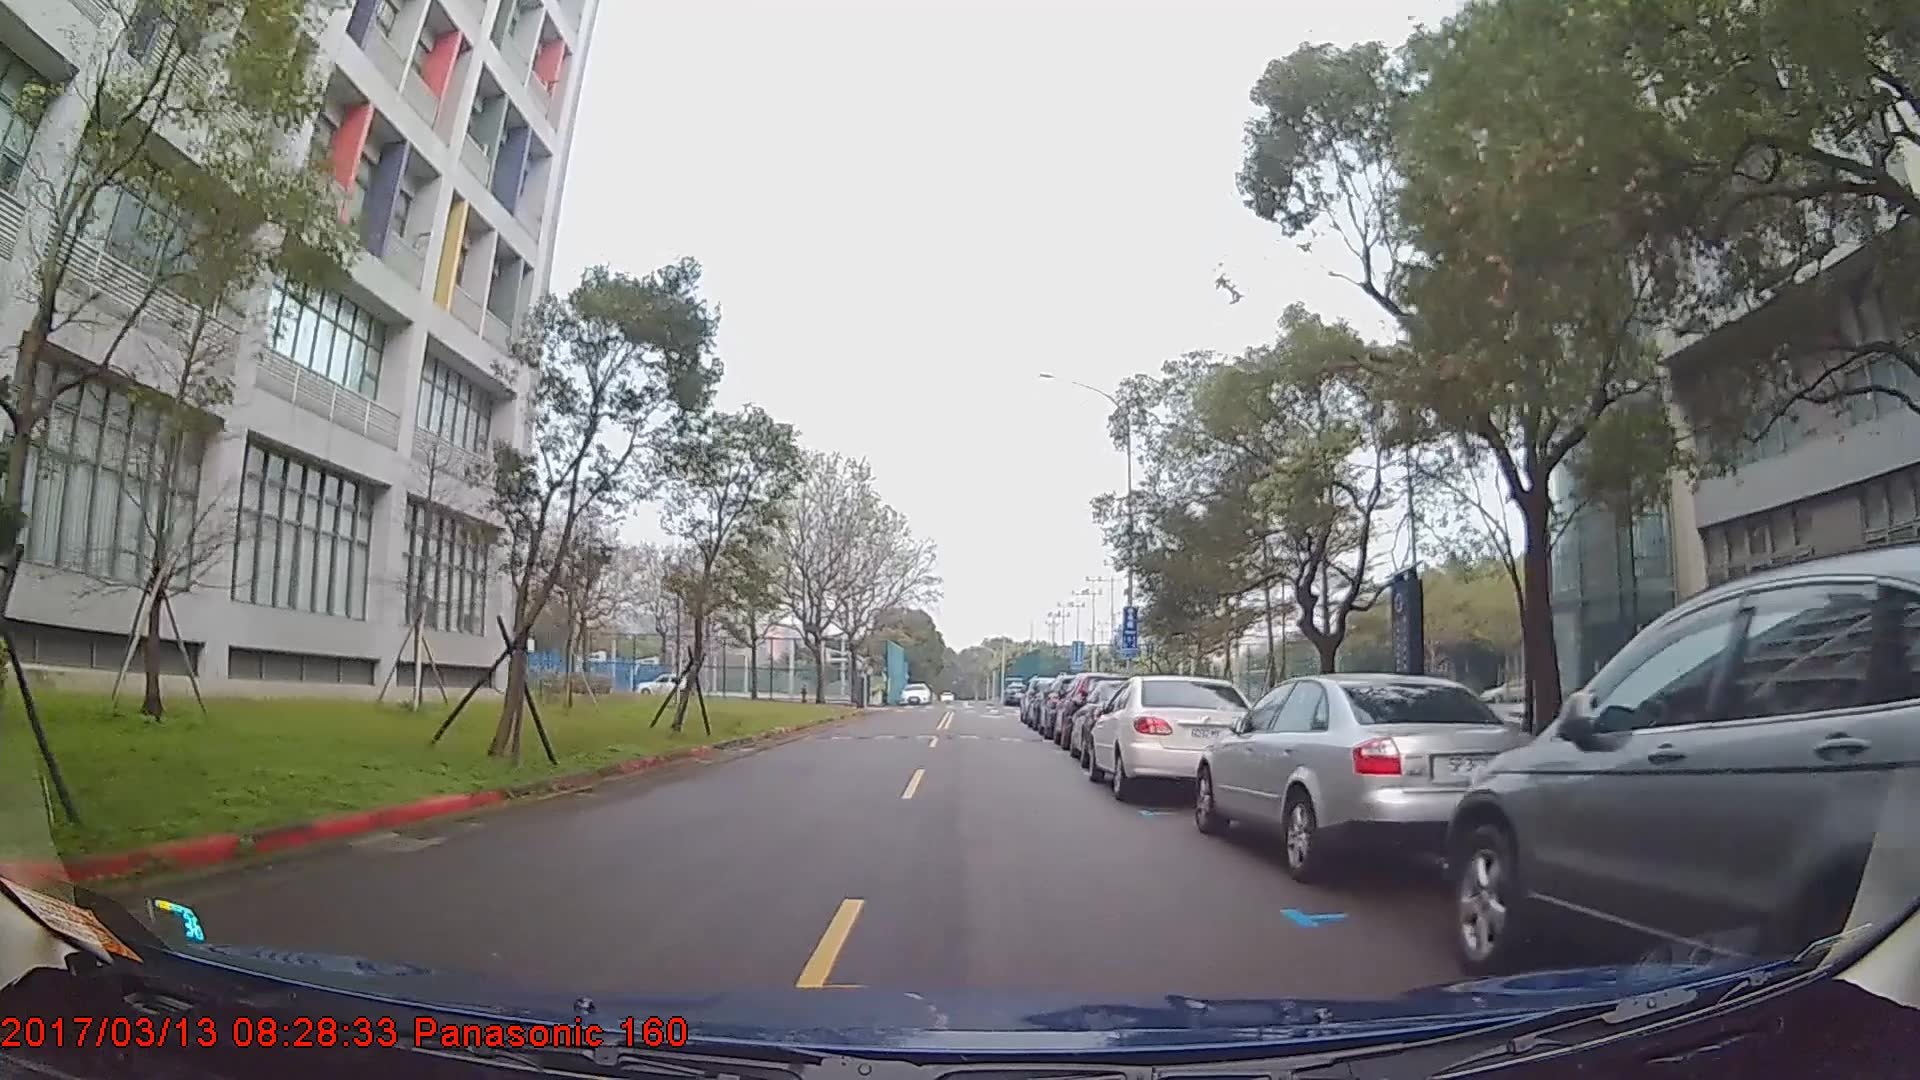vehicle: (1449, 541, 1920, 1015), (1192, 673, 1542, 878), (1087, 674, 1269, 804), (636, 673, 694, 699), (898, 682, 930, 704)
